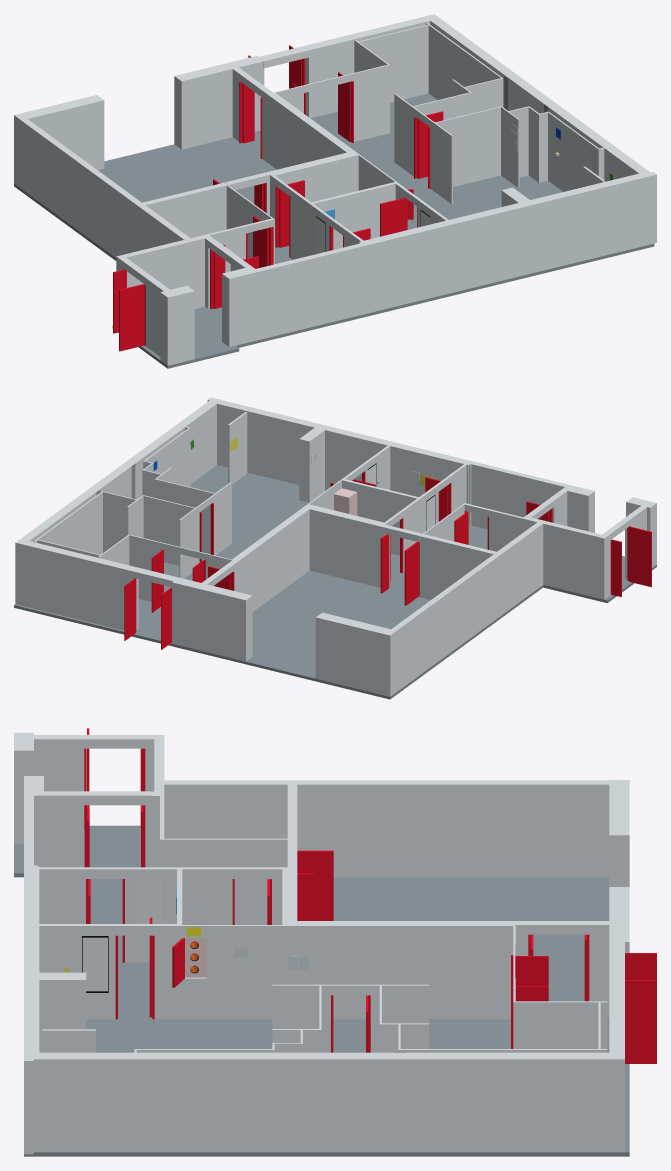
The model's file is unfurnished Lab.glb.
3 views of the same model, one above another, from view 1: azimuth 30°, elevation 25°; view 2: azimuth 150°, elevation 25°; view 3: azimuth 270°, elevation 25° (orthographic). The views are drawn at different scales.
Visible parts, largest first — view 1: lab with doors and posters; view 2: lab with doors and posters; view 3: lab with doors and posters.
Boxes of the visible parts, x1,y1,x2,y2 form: lab with doors and posters: [14, 14, 656, 368]; lab with doors and posters: [14, 397, 656, 699]; lab with doors and posters: [14, 728, 656, 1156].
Bounding box in the file's own units: 18.12 × 2.4 × 14.37.
